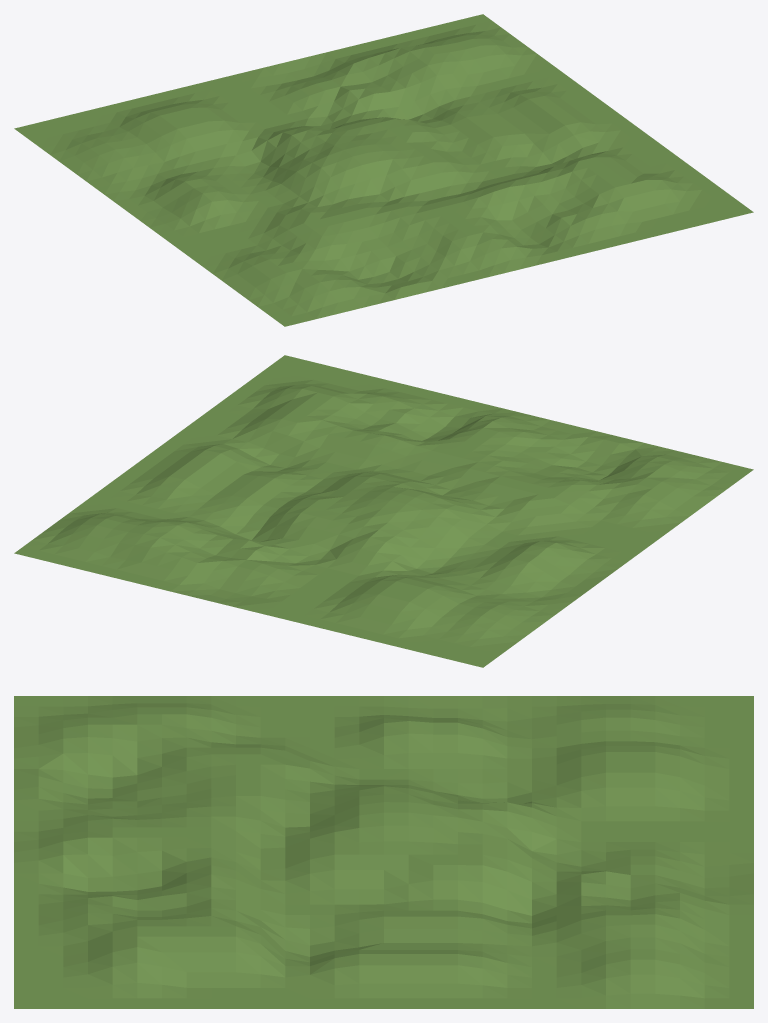
The model's file is Ground_04.FBX.
3 renders of one model, top to bottom at view 1: azimuth 30°, elevation 25°; view 2: azimuth 150°, elevation 25°; view 3: azimuth 270°, elevation 25°, orthographic. The views are drawn at different scales.
Parts seen in each view (by area): view 1: Ground_04; view 2: Ground_04; view 3: Ground_04.
Part boxes in pixels (<box>): Ground_04: <box>14,14,753,326</box>; Ground_04: <box>14,355,753,667</box>; Ground_04: <box>14,696,753,1008</box>.
Size of the model in its own units: 50 by 3.04 by 50.
